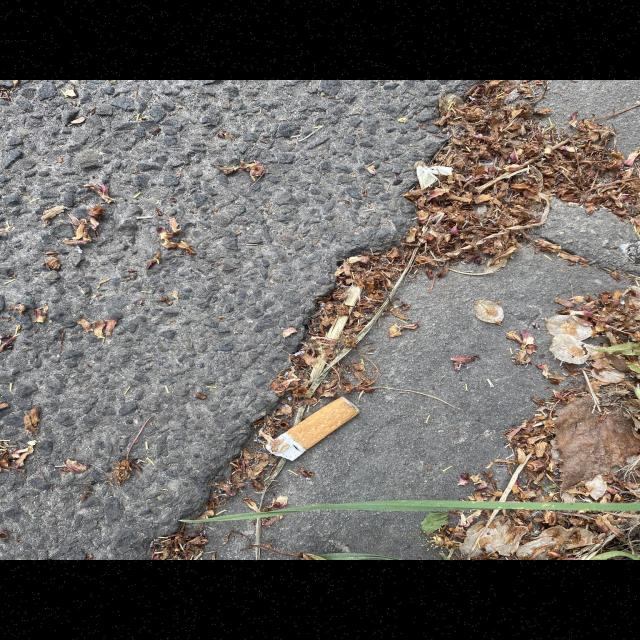other waste: (265, 396, 360, 462)
